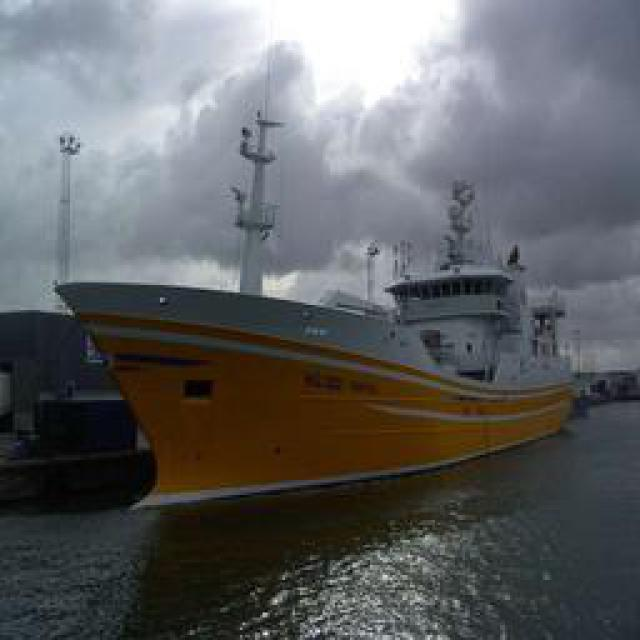Ship: (58, 250, 576, 521)
